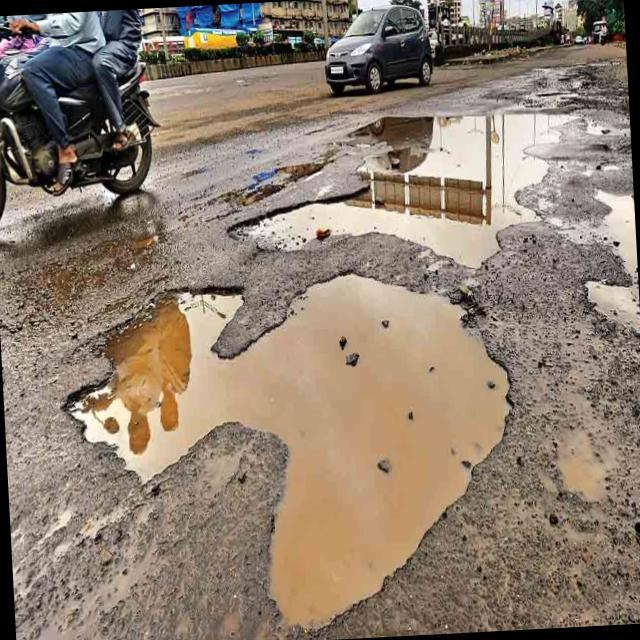Pothole: (123, 296, 467, 612), (362, 108, 532, 261), (595, 184, 640, 343), (247, 198, 361, 258)
